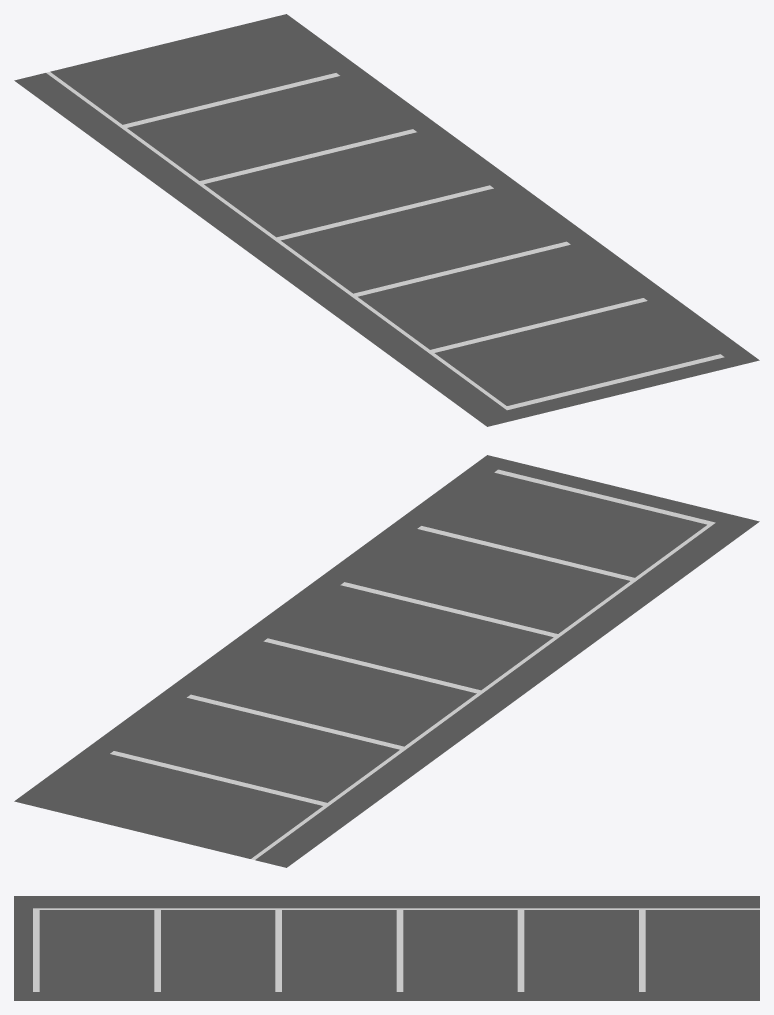
The model's file is floor_4_5_world_ap_0_lev1.glb.
The picture shows the model from 3 angles, top to bottom: view 1: azimuth 30°, elevation 25°; view 2: azimuth 150°, elevation 25°; view 3: azimuth 270°, elevation 25°; orthographic projection. The views are drawn at different scales.
Parts seen in each view (by area): view 1: floor_4_5_world_ap_0_lev1; view 2: floor_4_5_world_ap_0_lev1; view 3: floor_4_5_world_ap_0_lev1.
Boxes of the visible parts, x1,y1,x2,y2 form: floor_4_5_world_ap_0_lev1: (14, 14, 759, 426); floor_4_5_world_ap_0_lev1: (14, 455, 759, 867); floor_4_5_world_ap_0_lev1: (14, 896, 759, 1000).
Size of the model in its own units: 2.26 by 3.81e-08 by 6.81.
Materials: 1 (1 with a texture image).
